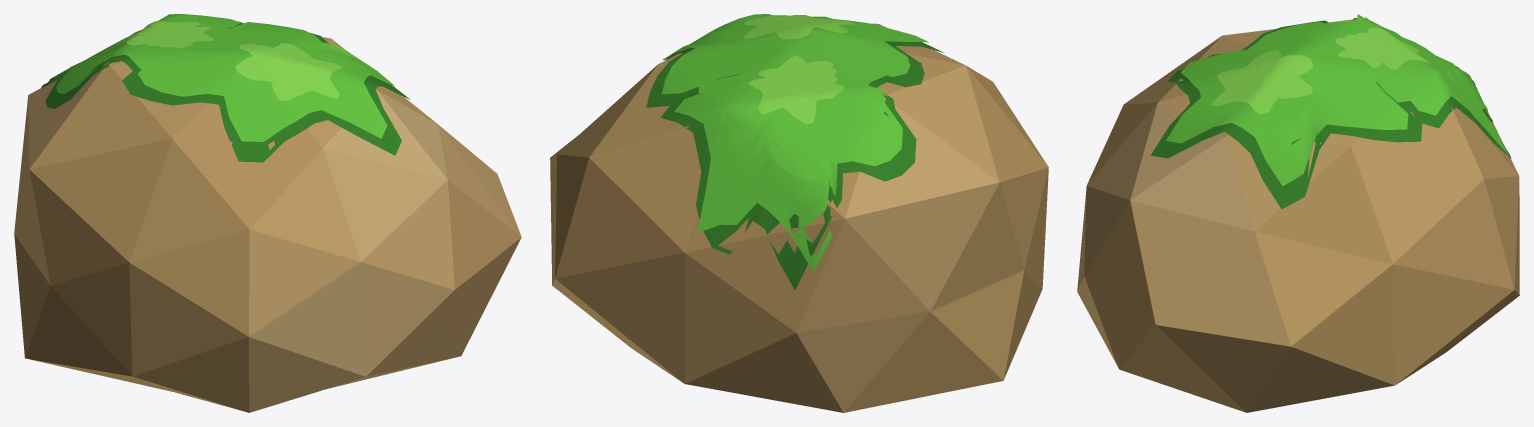
The model's file is rock_2_clover.glb.
3 renders of one model, left to right at view 1: azimuth 30°, elevation 25°; view 2: azimuth 150°, elevation 25°; view 3: azimuth 270°, elevation 25°, orthographic. The views are drawn at different scales.
Parts seen in each view (by area): view 1: rock_2_clover; view 2: rock_2_clover; view 3: rock_2_clover.
Part boxes in pixels (bbox=[...]): rock_2_clover: bbox=[14, 14, 521, 412]; rock_2_clover: bbox=[550, 14, 1048, 412]; rock_2_clover: bbox=[1077, 14, 1519, 412].
Size of the model in its own units: 1.89 by 1.2 by 1.67.
